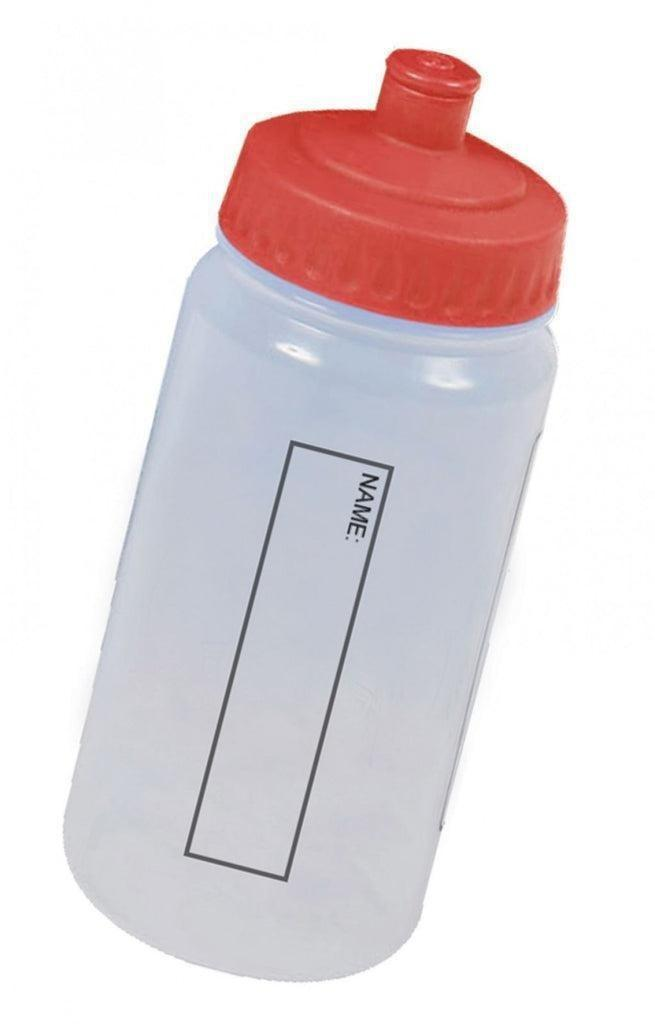gym bottle: (61, 40, 573, 992)
